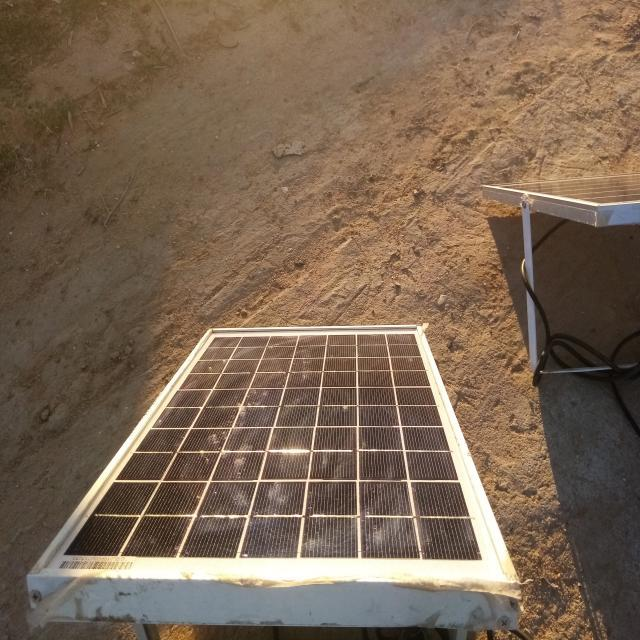no faulty: (34, 326, 514, 578)
